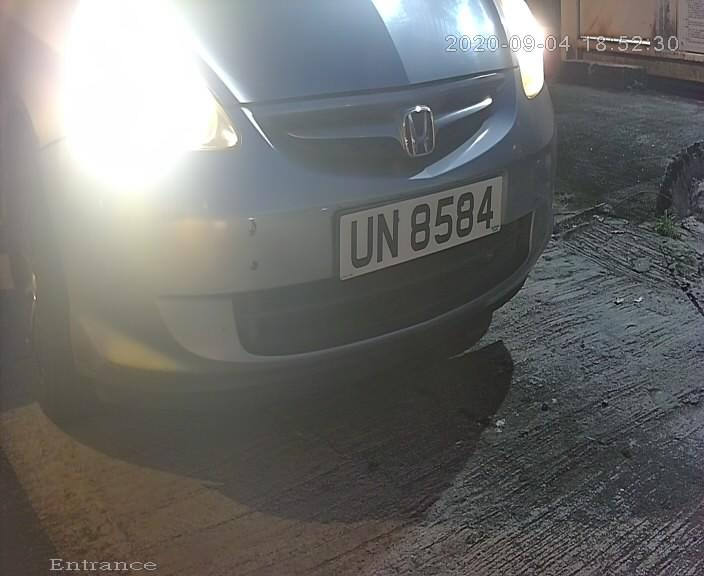License Plate: (322, 163, 516, 293)
